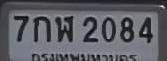0: (101, 16, 115, 41)
2: (82, 16, 96, 41)
4: (138, 16, 152, 42)
7: (13, 15, 28, 41)
8: (119, 16, 133, 41)
A01: (33, 15, 50, 41)
A42: (54, 15, 72, 41)
